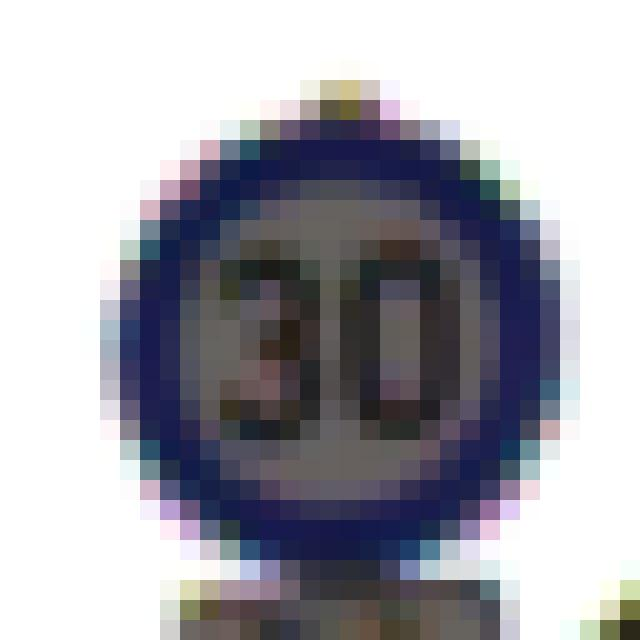SPEED LIMIT 30: (160, 170, 544, 542)
